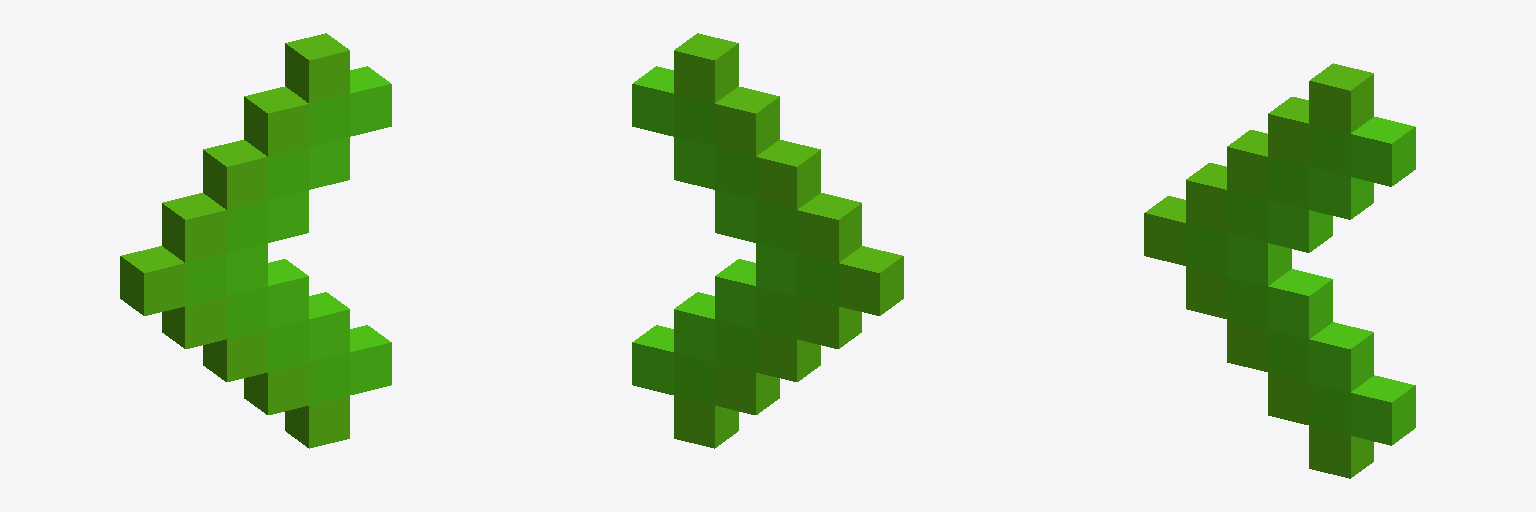
The picture shows the model from 3 angles: view 1: azimuth 30°, elevation 25°; view 2: azimuth 150°, elevation 25°; view 3: azimuth 330°, elevation 25°; orthographic projection.
Visible parts, largest first — view 1: object 1; view 2: object 1; view 3: object 1.
Boxes of the visible parts, <box> form: object 1: <box>120,33,391,448</box>; object 1: <box>632,33,903,448</box>; object 1: <box>1144,63,1415,478</box>.
Bounding box in the file's own units: 0.6 × 0.9 × 0.1.
Materials: 1 (1 with a texture image).